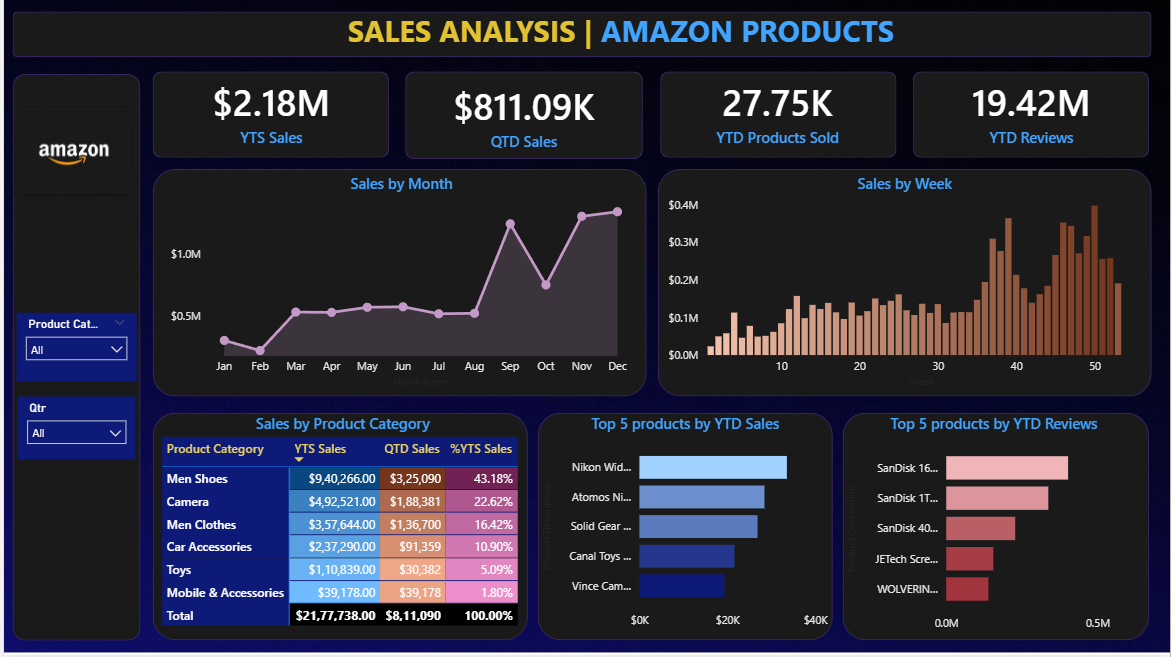

What the dashboard file says about the page in this screenshot:
{"tool":"powerbi","page":{"name":"Page 1","canvas":[1280,720],"ordinal":0},"visuals":[{"type":"shape","box":[9.6,13.7,1250,50],"z":0},{"type":"textbox","box":[306,8.2,742.4,59],"z":1000},{"type":"shape","box":[9.6,82.3,140,622],"z":2000},{"type":"shape","box":[163.3,79.6,259.3,94.7],"z":3000},{"type":"shape","box":[441.1,79.6,260.7,96.1],"z":4000},{"type":"shape","box":[720.3,79.6,259.3,94.7],"z":5000},{"type":"shape","box":[998.2,79.9,259.3,94.7],"z":6000},{"type":"card","fields":{"Values":["Amazon_Data.YTS Sales"]},"box":[168.8,79.6,249.7,87.8],"z":7000},{"type":"card","fields":{"Values":["Amazon_Data.QTD Sales"]},"box":[446,83.7,249.7,87.8],"z":8000},{"type":"card","fields":{"Values":["Amazon_Data.YTD Products Sold"]},"box":[724.5,79.6,249.7,87.8],"z":9000},{"type":"card","fields":{"Values":["Amazon_Data.YTD Reviews"]},"box":[1003.1,79.6,249.7,87.8],"z":10000},{"type":"shape","box":[163.3,186.6,542,249.7],"z":11000},{"type":"shape","box":[717.7,186.6,542,249.7],"z":12000},{"type":"shape","box":[163.3,454.2,411.7,249.7],"z":13000},{"type":"shape","box":[585.9,454.2,323.8,249.7],"z":14000},{"type":"shape","box":[920.8,454.2,336.2,249.7],"z":15000},{"type":"areaChart","title":"Sales  by Month ","fields":{"Category":["Date Table.Month Name"],"Y":["Sum(Amazon_Data.Price(Dollar))"]},"box":[178.4,190.7,516,240.1],"z":16000},{"type":"pivotTable","title":"Sales by Product Category","fields":{"Rows":["Amazon_Data.Product Category"],"Values":["Amazon_Data.YTS Sales","Amazon_Data.QTD Sales","Divide(Amazon_Data.YTS Sales, ScopedEval(Amazon_Data.YTS Sales, []))"]},"box":[168.8,454.2,406.2,242.9],"z":17000},{"type":"clusteredBarChart","title":"Top 5 products by YTD Sales","fields":{"Category":["Amazon_Data.Product Description"],"Y":["Amazon_Data.YTS Sales"]},"box":[585.9,454.2,323.8,245.6],"z":18000},{"type":"clusteredBarChart","title":"Top 5 products by YTD Reviews","fields":{"Category":["Amazon_Data.Product Description"],"Y":["Amazon_Data.YTD Reviews"]},"box":[920.8,454.2,332.1,249.7],"z":19000},{"type":"columnChart","title":"Sales by Week","fields":{"Y":["Sum(Amazon_Data.Price(Dollar))"],"Category":["Date Table.Week"]},"box":[724.5,190.7,528.3,240.1],"z":20000},{"type":"image","box":[0,105.7,149.6,122.1],"z":20001},{"type":"slicer","fields":{"Values":["Amazon_Data.Product Category"]},"box":[13.7,344.4,131.7,75.5],"z":20002},{"type":"slicer","fields":{"Values":["Date Table.Qtr"]},"box":[15.1,436.4,129,68.6],"z":20003}]}

Visuals, with their boxes in screenshot pixels (x1, y1, x2, y2), scaled from the page's 1280x720 canvas onto the 1171x657 screenshot:
shape: 9, 13, 1152, 58
textbox: 280, 7, 959, 61
shape: 9, 75, 137, 643
shape: 149, 73, 387, 159
shape: 404, 73, 642, 160
shape: 659, 73, 896, 159
shape: 913, 73, 1150, 159
card - Amazon_Data.YTS Sales: 154, 73, 383, 153
card - Amazon_Data.QTD Sales: 408, 76, 636, 156
card - Amazon_Data.YTD Products Sold: 663, 73, 891, 153
card - Amazon_Data.YTD Reviews: 918, 73, 1146, 153
shape: 149, 170, 645, 398
shape: 657, 170, 1152, 398
shape: 149, 414, 526, 642
shape: 536, 414, 832, 642
shape: 842, 414, 1150, 642
"Sales  by Month " areaChart: 163, 174, 635, 393
"Sales by Product Category" pivotTable: 154, 414, 526, 636
"Top 5 products by YTD Sales" clusteredBarChart: 536, 414, 832, 639
"Top 5 products by YTD Reviews" clusteredBarChart: 842, 414, 1146, 642
"Sales by Week" columnChart: 663, 174, 1146, 393
image: 0, 96, 137, 208
slicer - Amazon_Data.Product Category: 13, 314, 133, 383
slicer - Date Table.Qtr: 14, 398, 132, 461
